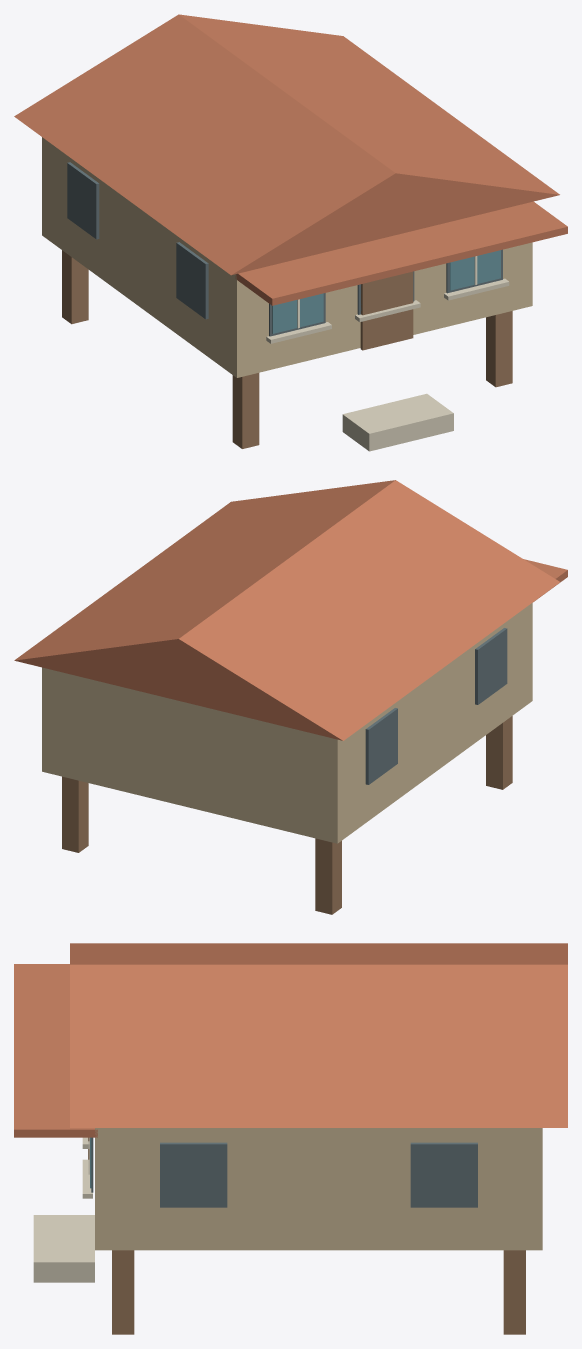
The model's file is stilt-3.glb.
The picture shows the model from 3 angles, top to bottom: view 1: azimuth 30°, elevation 25°; view 2: azimuth 150°, elevation 25°; view 3: azimuth 270°, elevation 25°; orthographic projection. The views are drawn at different scales.
Size of the model in its own units: 7.8 by 5.8 by 9.9.
